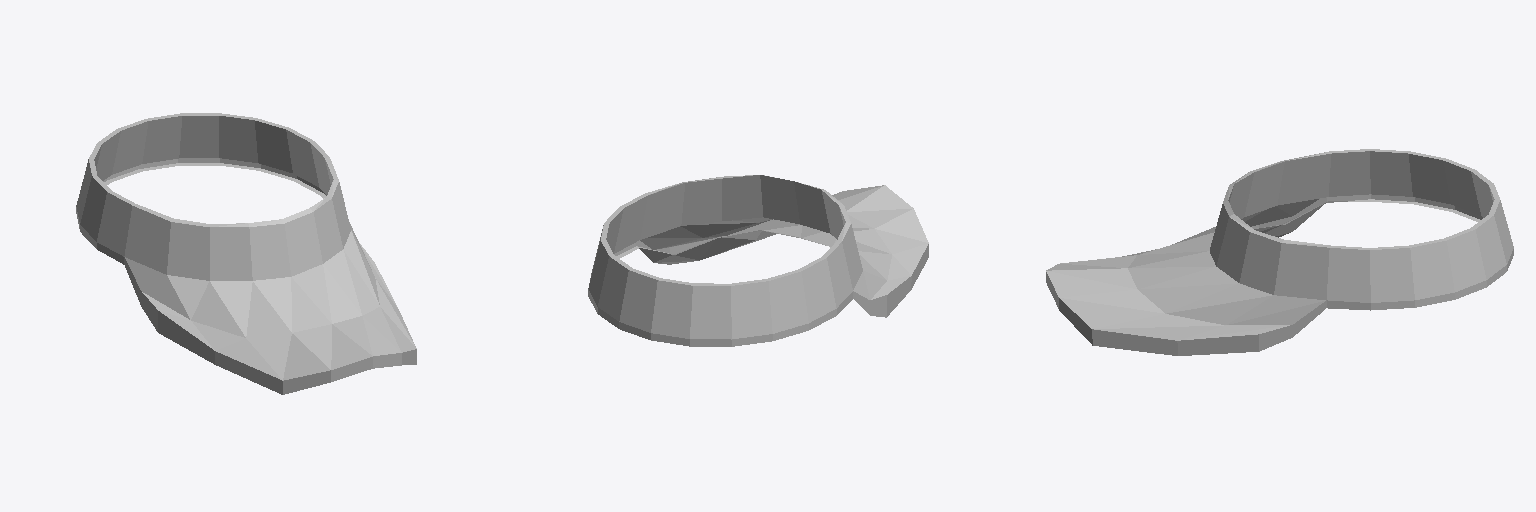
Rendered from visorBaseMesh.obj.
The picture shows the model from 3 angles: view 1: azimuth 30°, elevation 25°; view 2: azimuth 150°, elevation 25°; view 3: azimuth 270°, elevation 25°; orthographic projection.
Visible parts, largest first — view 1: pCylinder1; view 2: pCylinder1; view 3: pCylinder1.
Boxes of the visible parts, box(x1,y1,x2,y2) form: pCylinder1: box(76, 113, 416, 394); pCylinder1: box(588, 175, 928, 346); pCylinder1: box(1046, 149, 1513, 355).
Bounding box in the file's own units: 12.04 × 5.76 × 21.41.